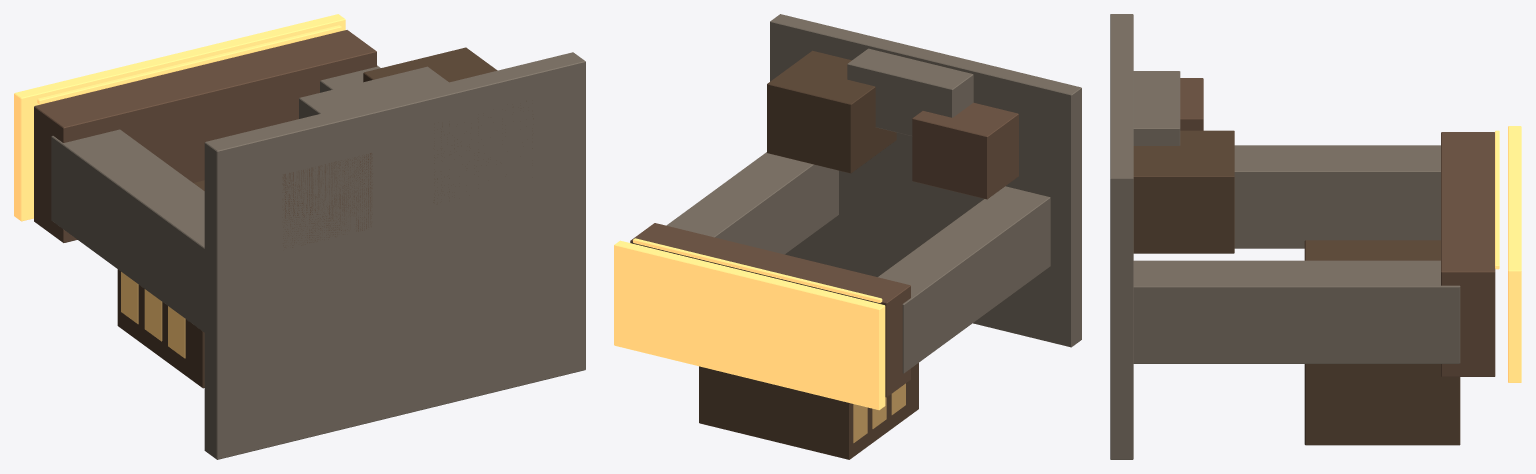
Rendered from mass_gantry_block_canyon_r.glb.
3 views of the same model, side by side, from view 1: azimuth 30°, elevation 25°; view 2: azimuth 150°, elevation 25°; view 3: azimuth 270°, elevation 25° (orthographic). The views are drawn at different scales.
Parts seen in each view (by area): view 1: FlightKit_MassGantry_canyon_R; view 2: FlightKit_MassGantry_canyon_R; view 3: FlightKit_MassGantry_canyon_R.
Boxes of the visible parts, left/top/right/bottom form: FlightKit_MassGantry_canyon_R: left=14, top=14, right=585, bottom=459; FlightKit_MassGantry_canyon_R: left=614, top=14, right=1081, bottom=459; FlightKit_MassGantry_canyon_R: left=1110, top=14, right=1521, bottom=459.
Bounding box in the file's own units: 10 × 8.75 × 10.57.
